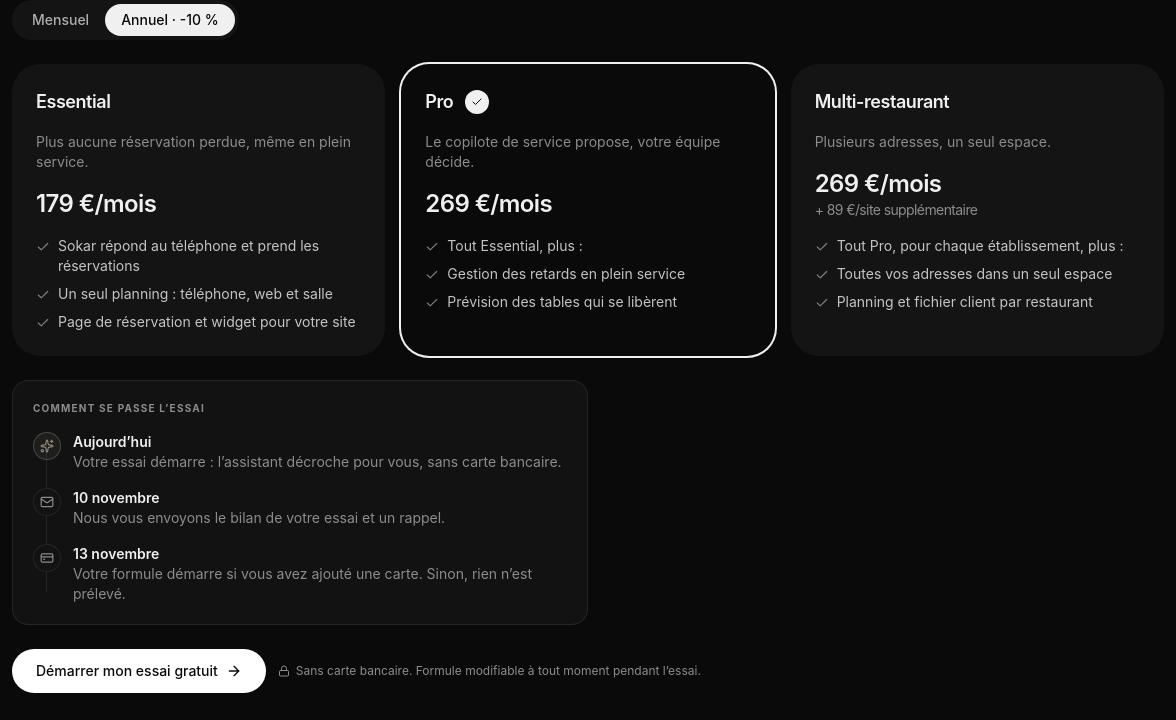
Test: reste sur l’écran et permet de réessayer si l’essai ne peut pas démarrer
Expected: the element named "Formule" is shown, [12,64,1164,356]
Click the button "Démarrer mon essai gratuit" at (139, 671), box [12,649,266,693]
(page scrolled)
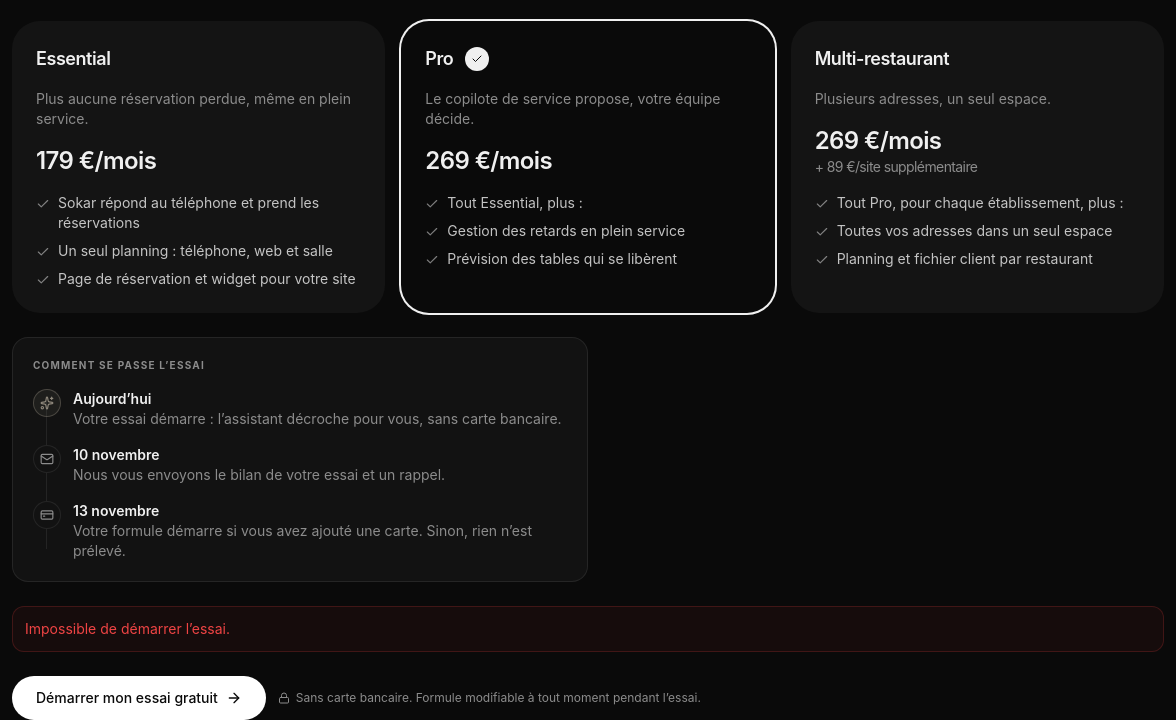
Expected: the button "Démarrer mon essai gratuit" is enabled, [12,676,266,719]
Result: the message reads "Impossible de démarrer l’essai." at [25,620,230,637]
